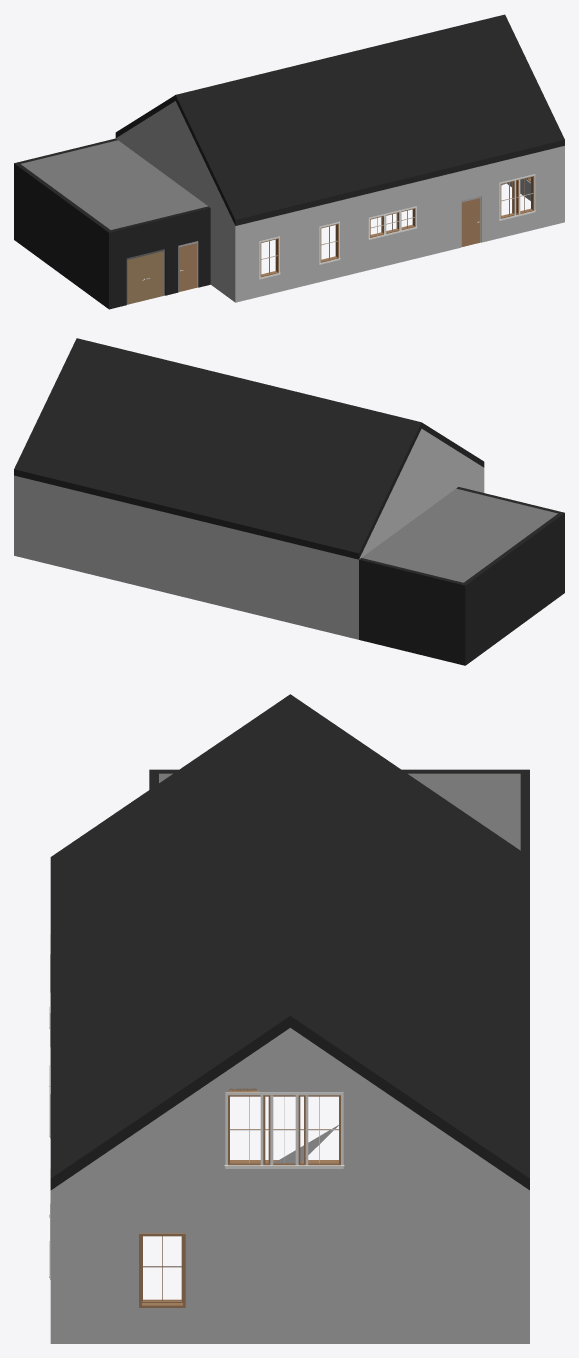
3 views of the same model, one above another, from view 1: azimuth 30°, elevation 25°; view 2: azimuth 150°, elevation 25°; view 3: azimuth 270°, elevation 25° (orthographic). The views are drawn at different scales.
Parts seen in each view (by area): view 1: Fake; view 2: Fake; view 3: Fake.
Boxes of the visible parts, x1,y1,x2,y2 form: Fake: (14, 14, 564, 309); Fake: (14, 338, 564, 665); Fake: (49, 694, 529, 1343).
Size of what is drawn, in the model's own units: 21.24 by 7.71 by 10.24.
